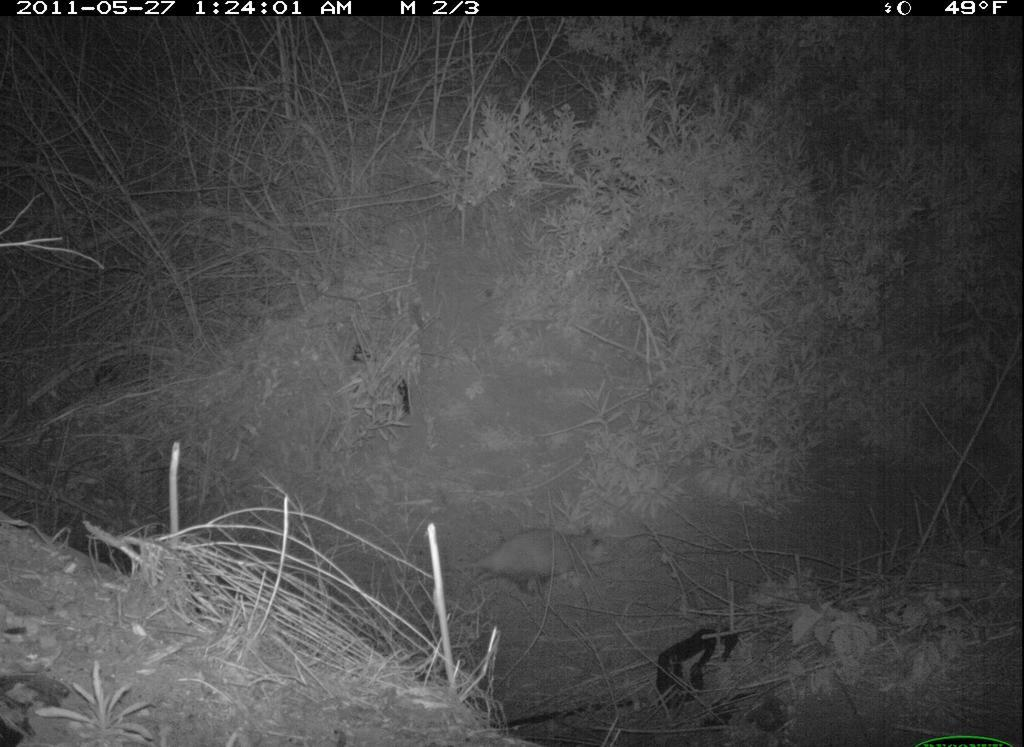opossum: (438, 509, 620, 621)
